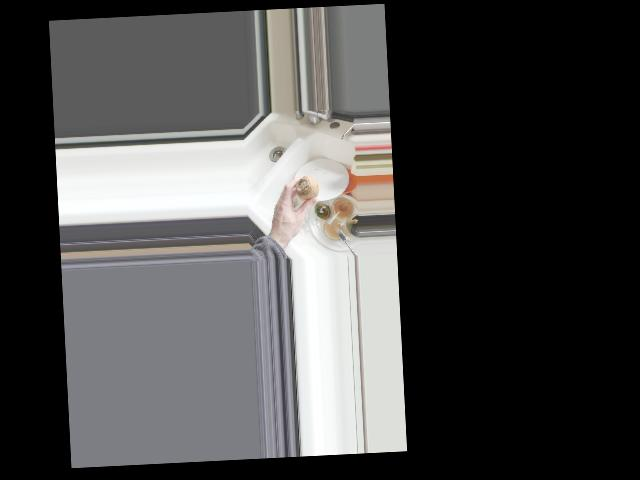sweet_potato: (293, 174, 320, 206)
